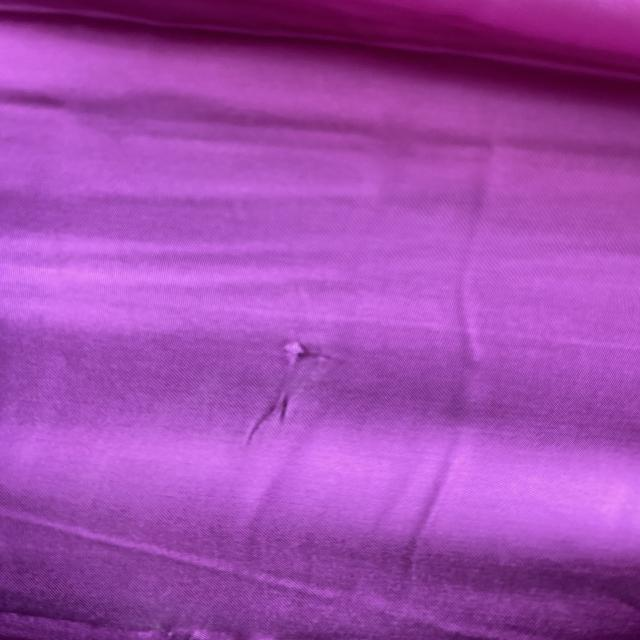broken_yarn: (233, 337, 330, 455)
